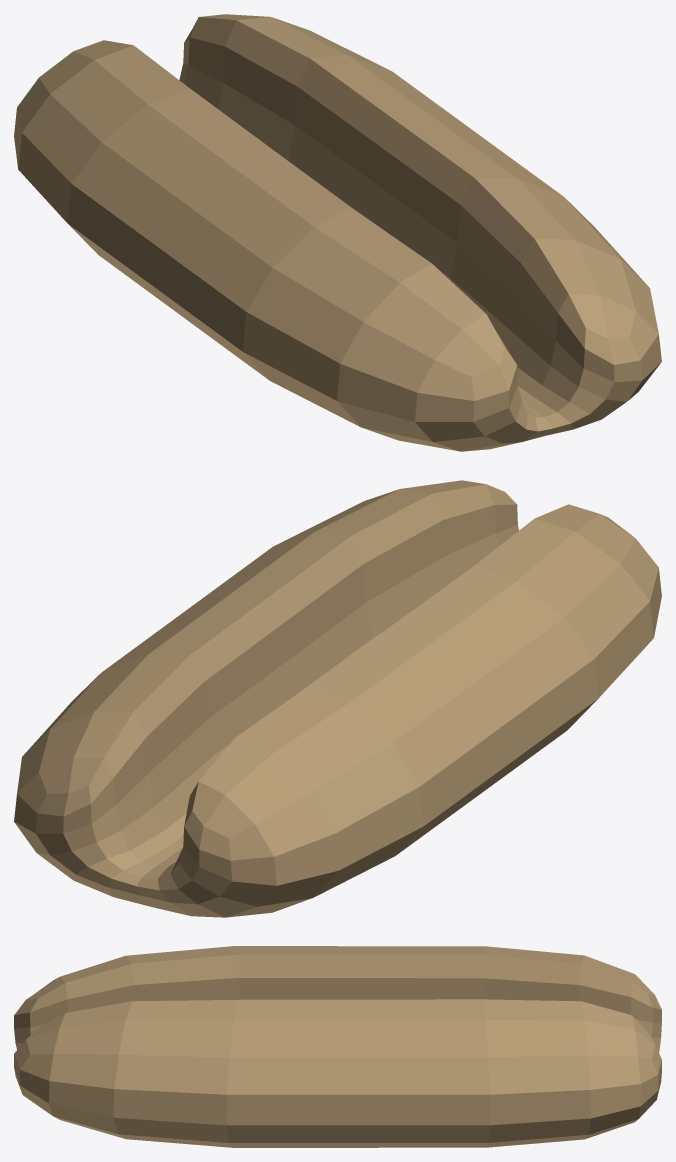
File: Hotdog_Bun.glb
3 views of the same model, one above another, from view 1: azimuth 30°, elevation 25°; view 2: azimuth 150°, elevation 25°; view 3: azimuth 270°, elevation 25° (orthographic). The views are drawn at different scales.
Visible parts, largest first — view 1: Hotdog_Bun; view 2: Hotdog_Bun; view 3: Hotdog_Bun.
Part boxes in pixels (x1,y1,x2,y2): Hotdog_Bun: [14, 14, 661, 451]; Hotdog_Bun: [14, 480, 661, 917]; Hotdog_Bun: [14, 946, 661, 1147].
Bounding box in the file's own units: 0.7853 × 0.4094 × 1.64.
